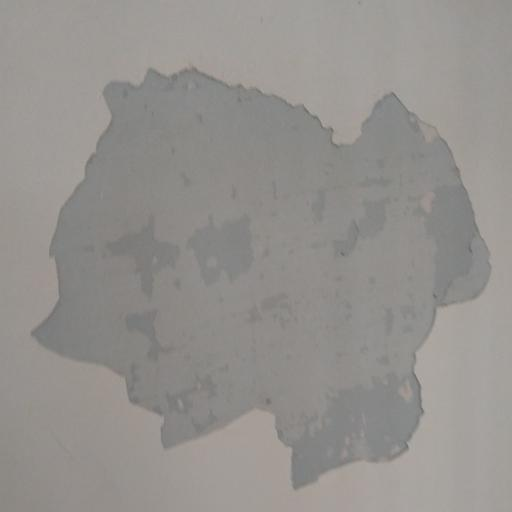peeling: (32, 50, 495, 495)
